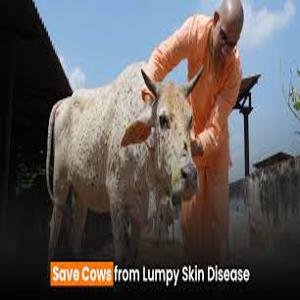lumpy skin diesease: (45, 60, 204, 268)
